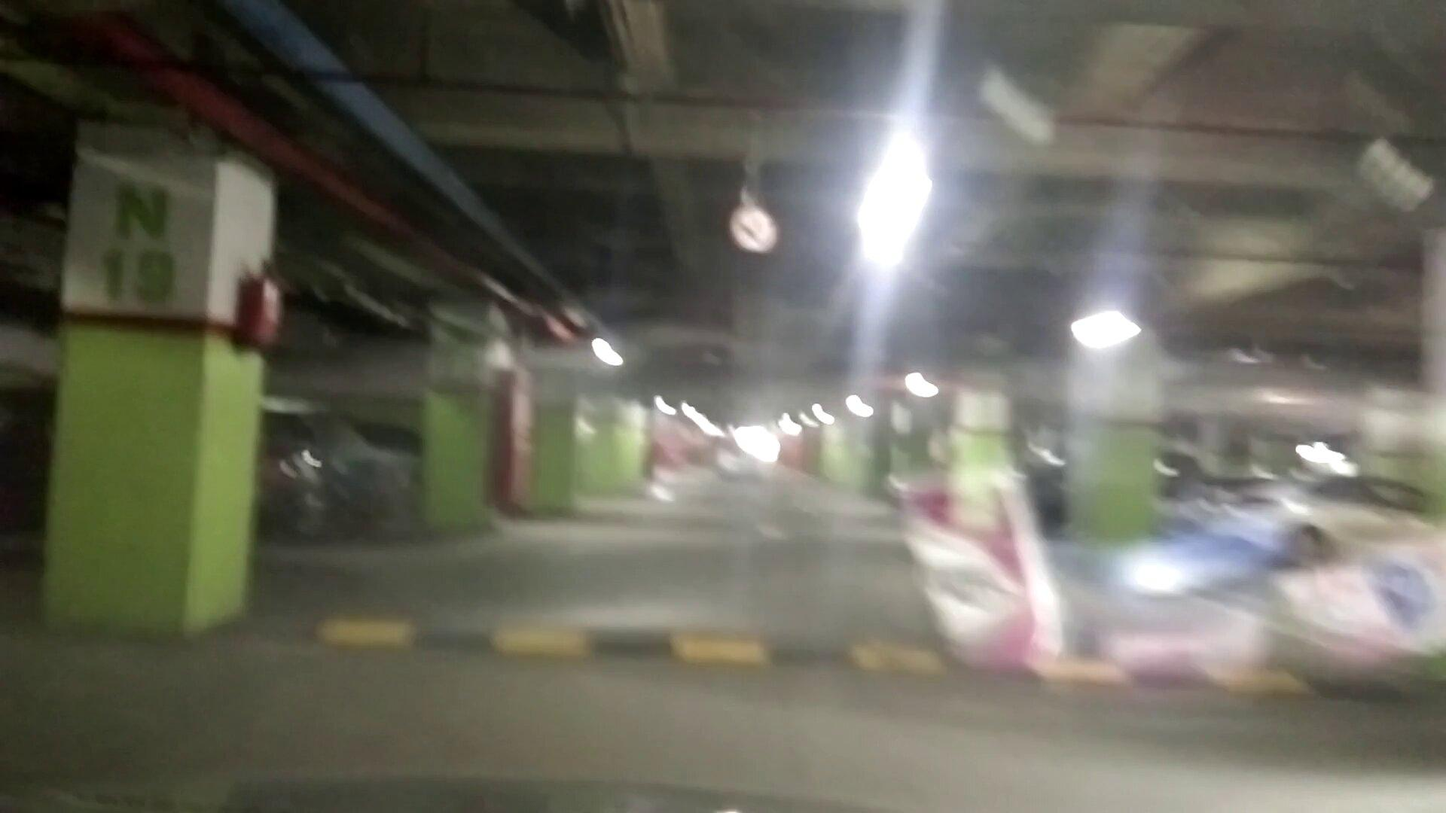Bump: (215, 611, 1404, 697)
